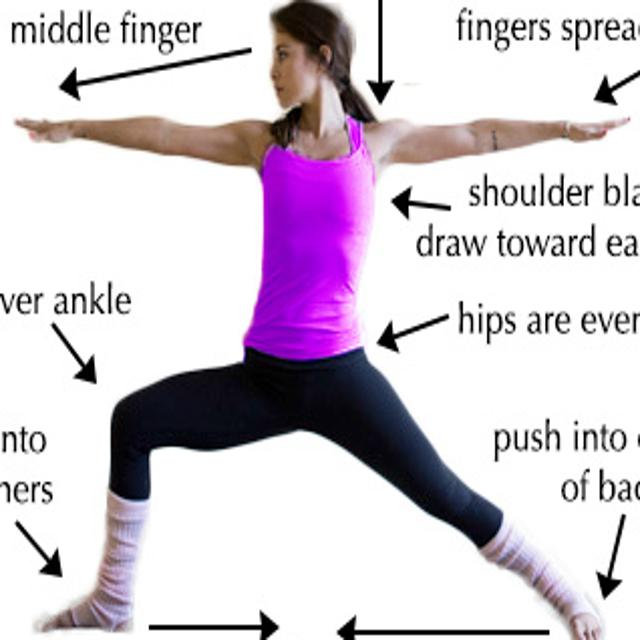Warrior_II: (15, 2, 634, 640)
